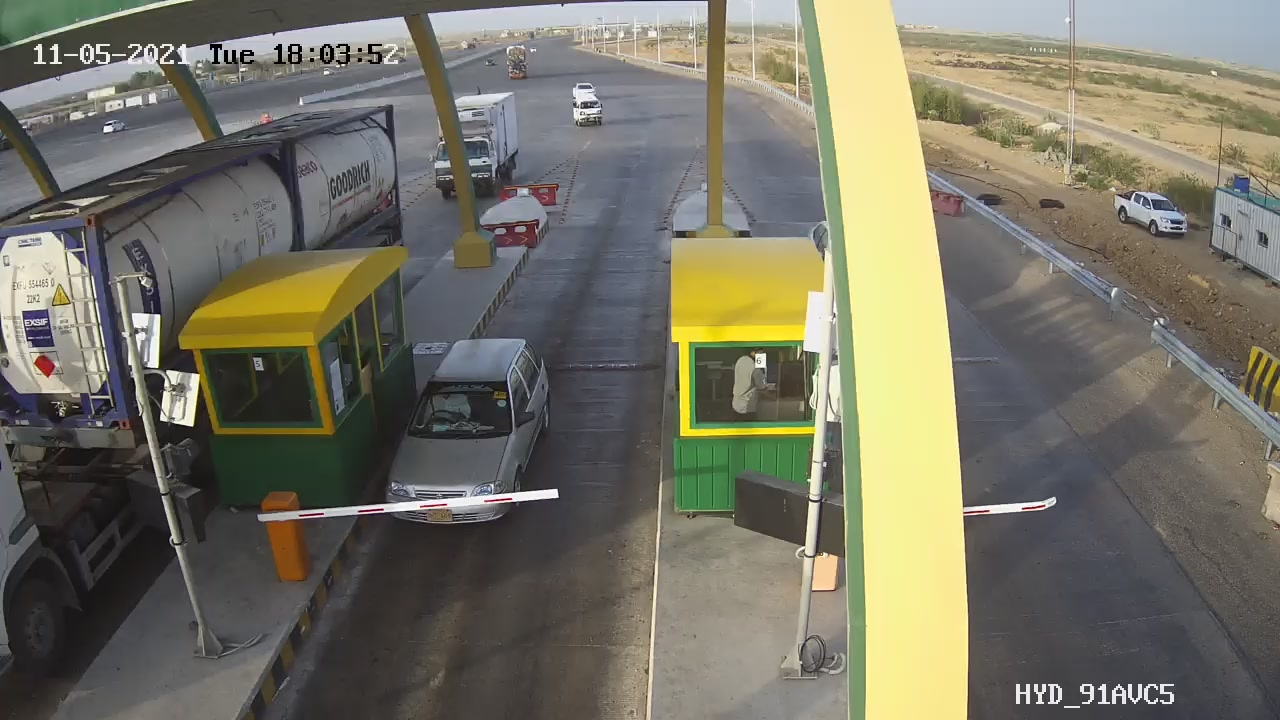F1: (370, 322, 576, 543)
